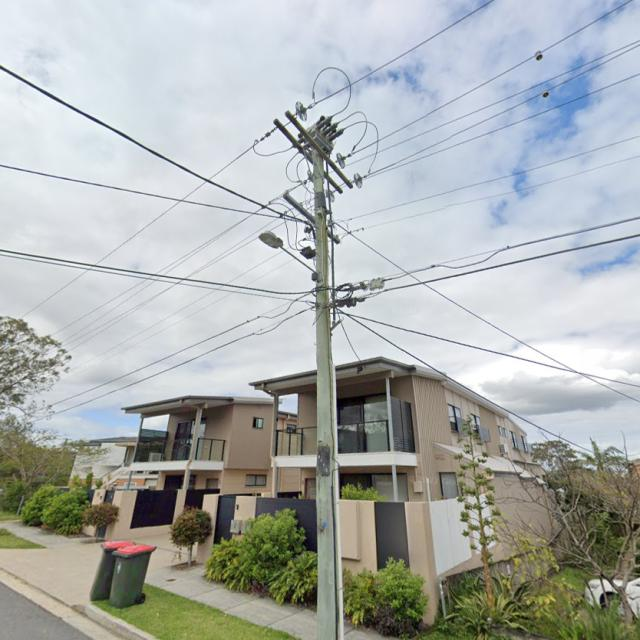HV-switch: (296, 113, 344, 155)
HV-transmission: (261, 101, 367, 193)
crossarm: (284, 110, 354, 189), (272, 118, 342, 194), (282, 192, 342, 245)
streetlight: (258, 230, 318, 273)
timber-pole: (312, 147, 338, 640)
